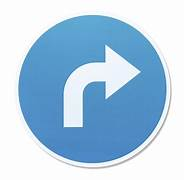right: (18, 12, 172, 167)
